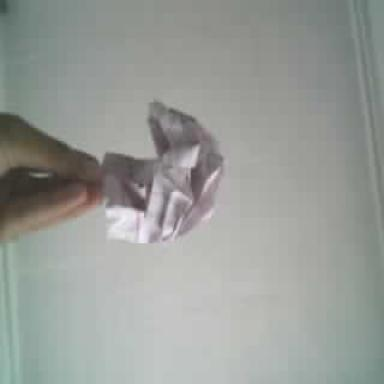paper: (104, 101, 223, 242)
